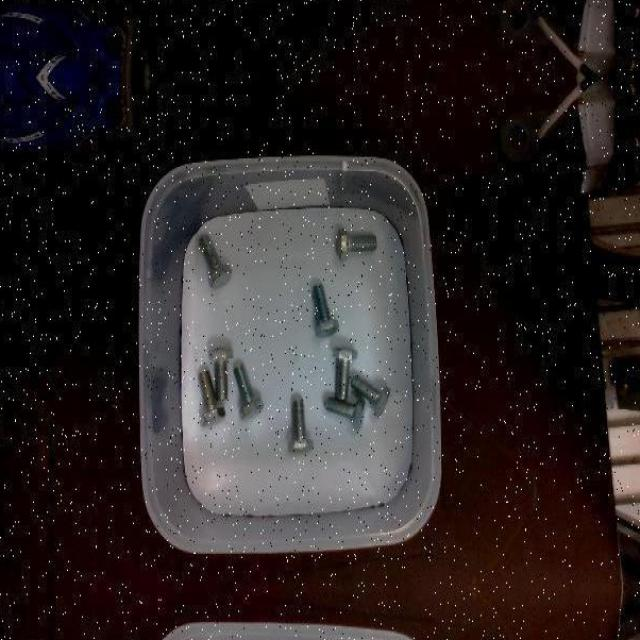screw: (199, 233, 233, 288), (234, 362, 265, 420), (351, 374, 390, 418), (287, 398, 315, 456), (198, 370, 225, 427), (324, 396, 366, 431), (208, 345, 234, 401), (312, 283, 339, 336), (336, 227, 376, 260), (333, 346, 357, 399)
